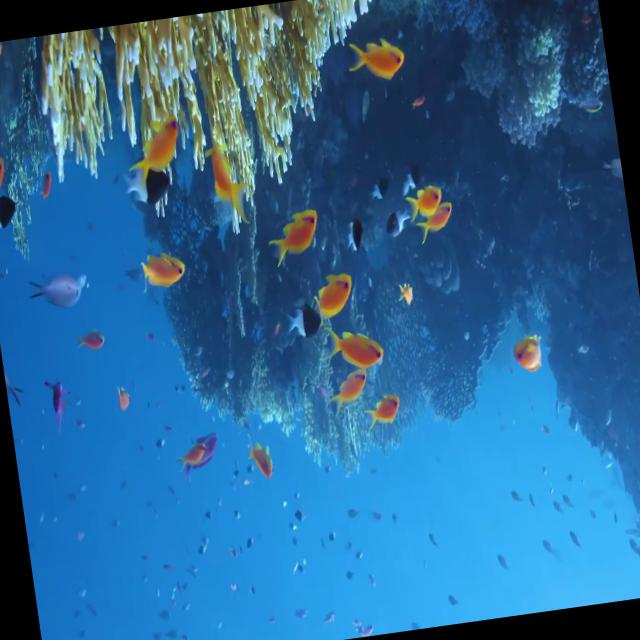fish: (192, 115, 258, 242), (252, 192, 330, 276), (334, 22, 416, 96), (130, 101, 192, 179), (127, 236, 195, 304), (324, 322, 390, 388), (22, 265, 88, 326), (120, 156, 180, 221), (309, 268, 362, 328), (361, 382, 408, 444), (502, 320, 554, 376), (279, 296, 333, 346), (412, 198, 460, 250), (40, 366, 78, 430), (336, 204, 376, 256), (75, 314, 114, 364), (400, 186, 446, 228), (329, 367, 371, 412), (168, 438, 214, 479), (246, 437, 282, 489), (384, 200, 419, 248), (368, 168, 401, 212), (0, 138, 14, 224), (396, 162, 429, 196), (0, 191, 22, 242), (394, 275, 421, 313), (517, 0, 559, 13)
